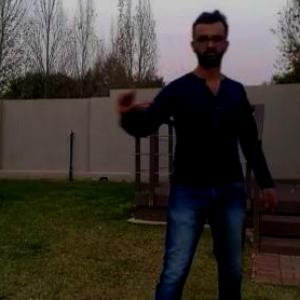land_hand: (112, 68, 156, 115)
